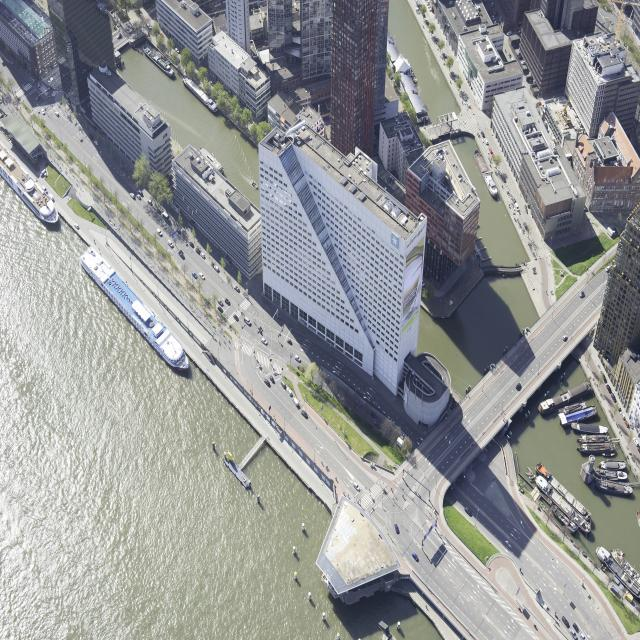large-vehicle: (395, 436, 407, 452), (161, 210, 171, 223), (41, 184, 48, 195)
ship: (77, 240, 193, 381), (534, 471, 593, 538), (534, 458, 592, 526), (537, 376, 593, 418), (181, 73, 219, 115), (471, 148, 500, 200), (140, 42, 177, 82), (559, 402, 600, 431), (196, 145, 227, 179), (550, 502, 579, 536), (595, 478, 633, 497), (558, 398, 588, 418), (594, 466, 628, 483), (577, 441, 617, 455), (570, 421, 609, 435), (607, 570, 626, 592), (577, 433, 613, 444), (153, 48, 171, 68), (598, 460, 627, 470), (623, 587, 635, 602), (602, 451, 616, 457), (600, 561, 608, 571), (250, 180, 258, 190), (599, 564, 606, 573), (529, 474, 536, 479), (530, 478, 537, 482)
small-vehicle: (609, 583, 621, 597), (623, 591, 634, 605), (561, 615, 570, 628), (243, 315, 252, 327), (291, 396, 300, 408), (352, 481, 361, 492), (464, 506, 473, 517), (417, 275, 425, 287), (570, 628, 578, 640), (263, 376, 271, 387), (411, 551, 419, 562), (632, 436, 640, 447), (285, 386, 293, 397), (39, 168, 47, 178), (155, 227, 163, 237), (198, 271, 206, 281), (216, 297, 224, 307), (300, 409, 308, 419), (619, 410, 626, 421), (572, 622, 579, 633), (337, 393, 345, 402), (48, 192, 55, 202), (167, 239, 174, 249), (280, 379, 287, 389), (191, 270, 198, 280), (297, 363, 304, 373), (224, 297, 231, 307), (601, 373, 608, 383), (605, 384, 612, 394), (610, 393, 617, 403), (615, 402, 622, 412), (394, 523, 400, 534), (373, 420, 381, 428), (355, 398, 362, 407), (129, 191, 136, 200), (137, 188, 144, 197), (233, 284, 240, 293), (261, 337, 268, 346), (370, 410, 377, 419), (389, 177, 396, 186), (515, 382, 522, 391), (514, 202, 520, 212), (73, 222, 80, 230), (213, 264, 220, 272), (217, 305, 224, 313), (294, 355, 301, 363), (399, 435, 406, 443), (47, 76, 54, 84), (233, 313, 239, 322), (269, 374, 275, 383), (448, 481, 454, 490), (501, 174, 507, 183), (579, 290, 585, 299), (94, 139, 100, 147), (147, 198, 153, 206), (46, 85, 52, 93), (200, 251, 206, 259), (195, 247, 201, 255), (87, 132, 93, 140), (483, 137, 489, 145), (511, 196, 517, 204), (605, 265, 611, 273), (624, 420, 630, 428), (35, 93, 40, 102), (41, 107, 46, 116), (498, 168, 503, 177), (523, 221, 528, 230), (54, 110, 60, 117), (174, 47, 180, 54), (146, 23, 152, 30), (116, 33, 122, 40), (260, 116, 266, 123), (209, 80, 215, 87), (243, 113, 249, 120), (247, 117, 253, 124), (188, 241, 194, 248), (562, 334, 568, 341), (582, 206, 588, 213), (156, 207, 161, 215), (176, 227, 181, 235), (265, 111, 270, 119), (466, 101, 471, 109), (429, 27, 434, 35), (436, 40, 441, 48), (480, 130, 485, 138), (498, 15, 503, 23), (180, 252, 185, 260), (488, 147, 493, 155), (491, 153, 496, 161), (510, 57, 515, 65), (264, 38, 270, 44), (221, 92, 227, 98), (506, 30, 512, 36), (512, 43, 518, 49), (518, 54, 524, 60), (171, 43, 176, 50), (155, 27, 160, 34), (136, 193, 141, 200), (37, 83, 42, 90), (230, 99, 235, 106), (239, 108, 244, 115), (218, 87, 223, 94), (205, 76, 210, 83), (387, 176, 392, 183), (442, 52, 447, 59), (445, 58, 450, 65), (451, 71, 456, 78), (490, 1, 495, 8), (421, 11, 426, 18), (516, 52, 523, 57), (454, 76, 458, 84), (159, 32, 164, 38), (170, 155, 175, 161), (168, 152, 173, 158), (250, 7, 256, 12), (521, 60, 527, 65), (252, 42, 258, 47), (226, 96, 231, 102), (287, 338, 292, 344), (258, 40, 264, 45), (433, 35, 438, 41), (518, 28, 524, 33), (38, 159, 42, 166), (235, 103, 239, 110), (508, 52, 512, 59), (488, 9, 492, 16), (419, 5, 423, 12), (258, 5, 263, 10), (581, 204, 586, 209), (463, 95, 467, 101), (425, 19, 429, 25), (495, 11, 499, 17), (491, 15, 495, 21), (494, 20, 498, 26)
